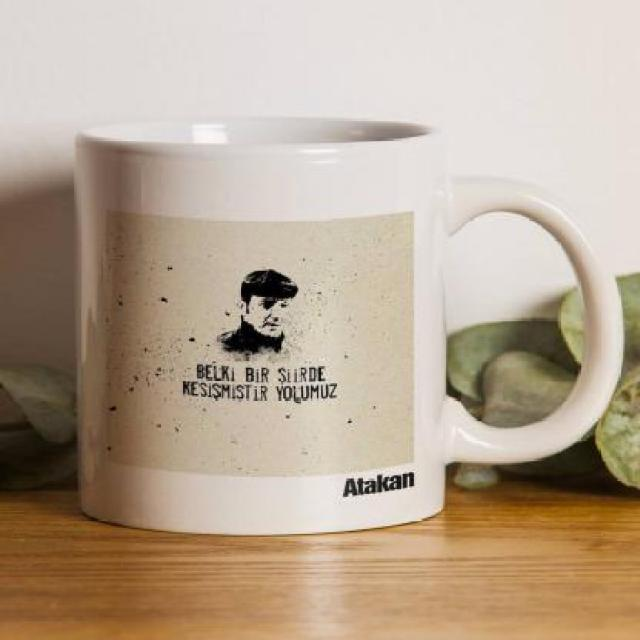taza: (71, 118, 627, 536)
